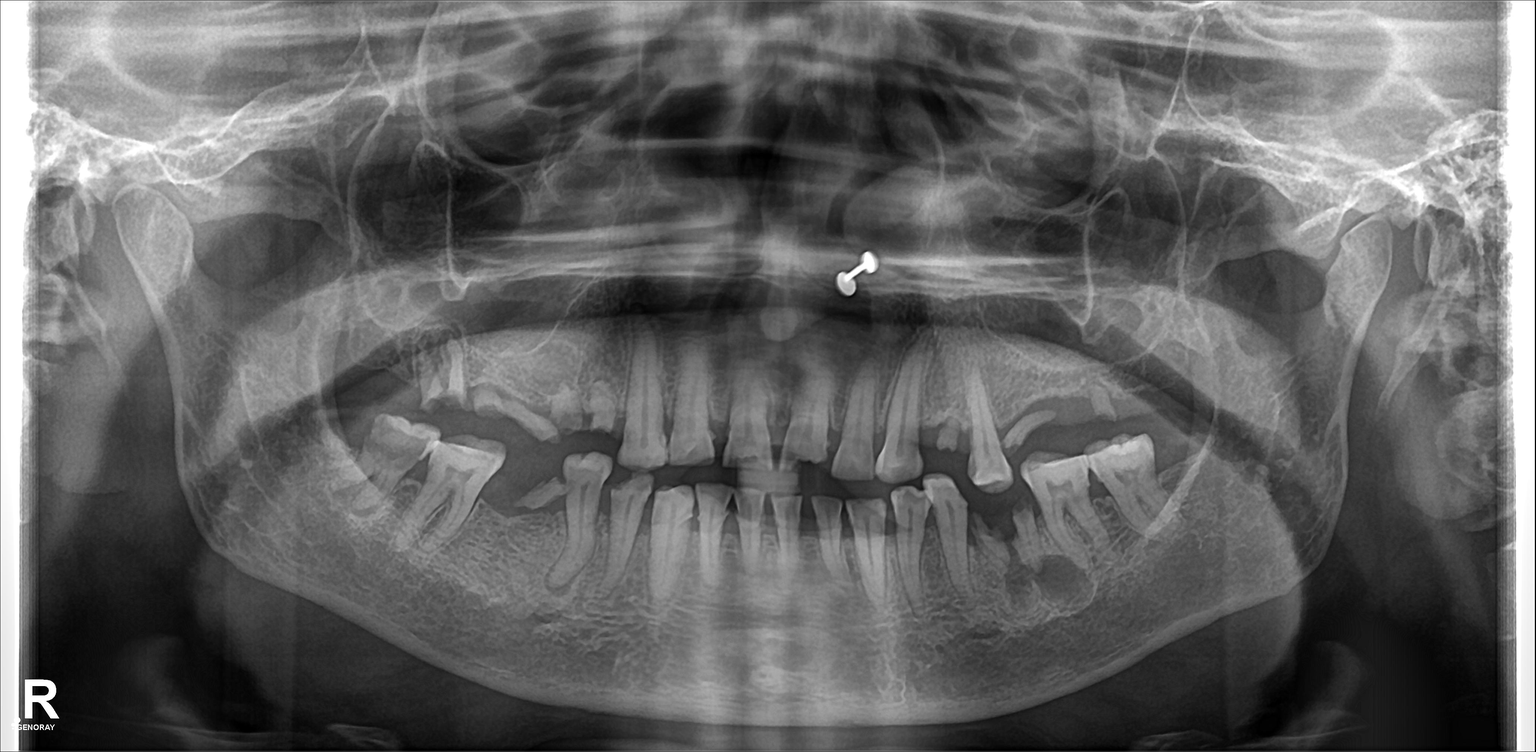Cyst: (1021, 555, 1117, 624)
Missing Tooth: (339, 326, 389, 405)
Retained Root: (998, 376, 1061, 450), (399, 328, 447, 425), (525, 456, 568, 562), (495, 339, 544, 431), (972, 488, 1009, 609), (439, 328, 486, 417), (551, 329, 584, 435), (1013, 491, 1046, 596), (1065, 369, 1113, 441), (929, 372, 967, 462), (590, 342, 615, 445)
